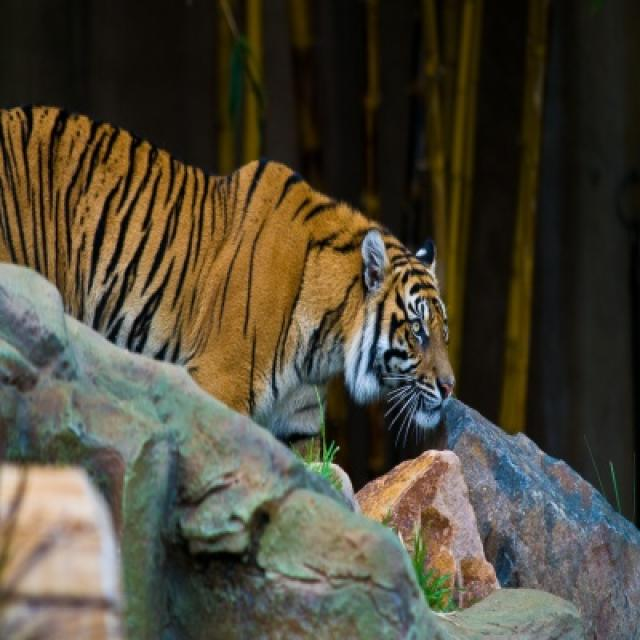Tiger: (0, 107, 453, 438)
